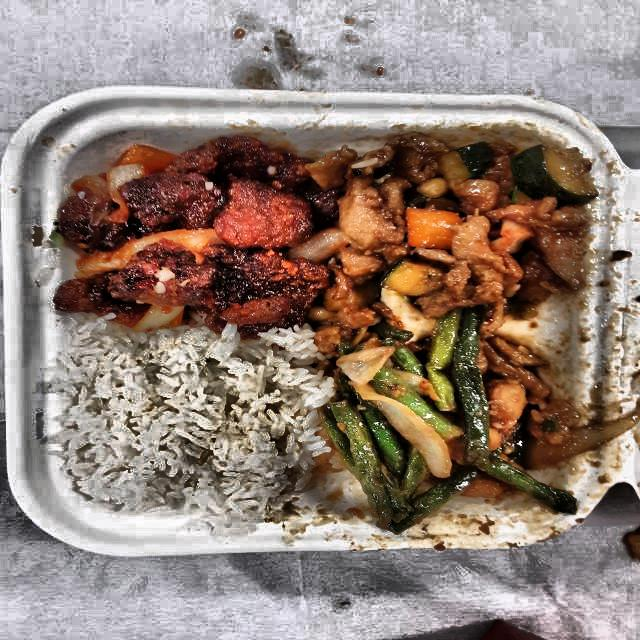Food: (52, 126, 334, 337), (323, 122, 595, 326), (324, 319, 578, 535), (62, 334, 318, 523)
